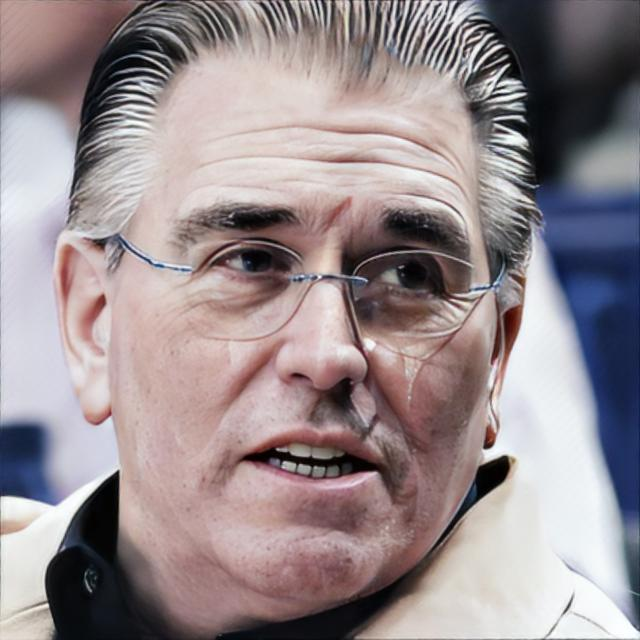surprise: (110, 43, 500, 607)
